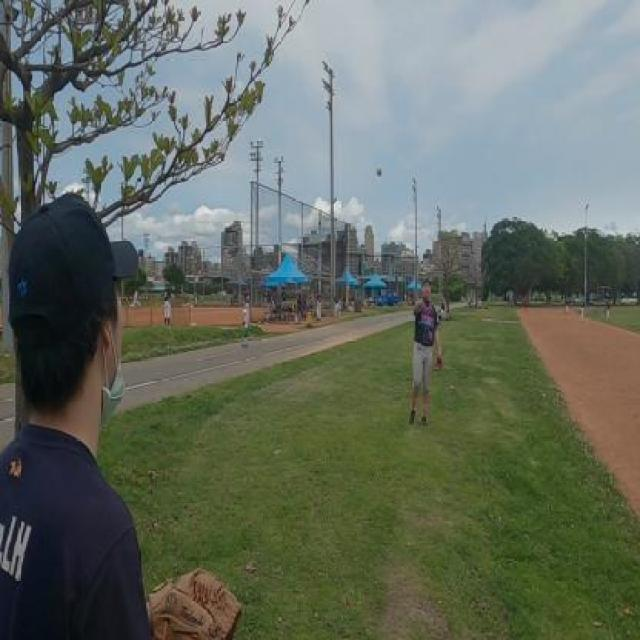baseball: (377, 168, 381, 177)
